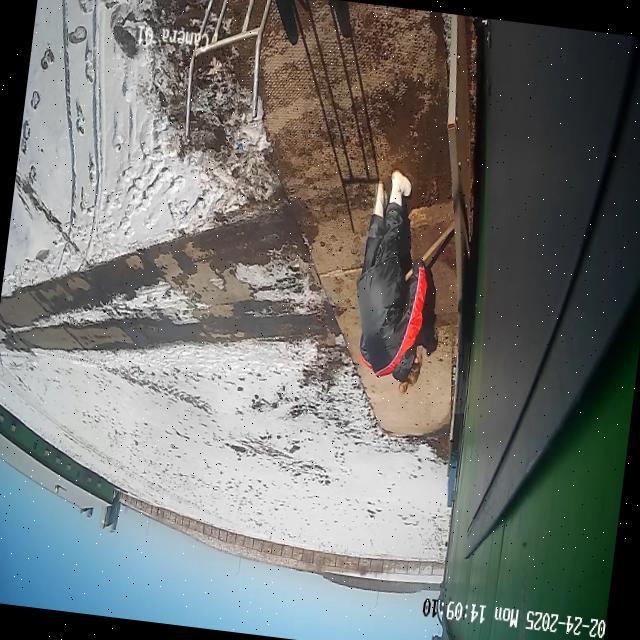Red uniform: (342, 163, 448, 394)
